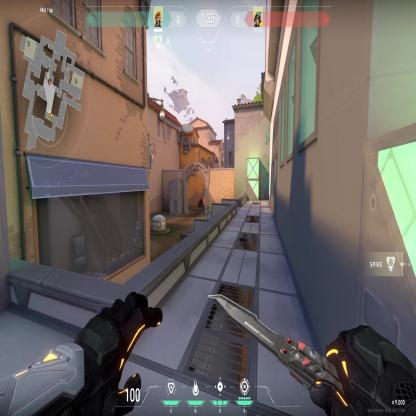enemy: (202, 195, 205, 214)
